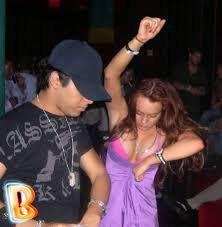Drunk: (135, 97, 159, 130)
